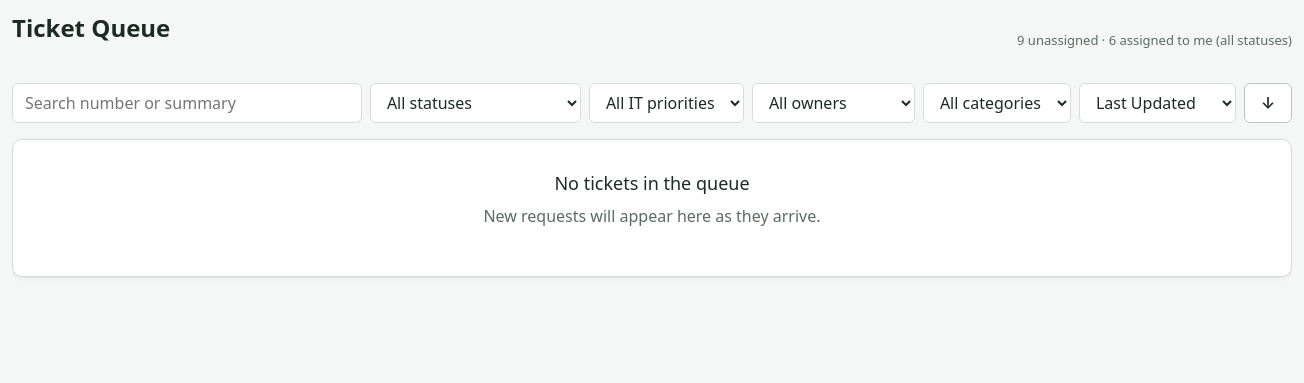
it: IT Staff Ticket Queue › UI-19: empty and no-results are distinct › shows no-results with a working Clear filters when a filter matches nothing
The width and height of the screenshot is (1304, 383).
Expected: the heading "No tickets in the queue" is shown, x1=554 y1=171 x2=750 y2=195
Step 1. Select "Reopened" in the dropdown named "Filter by status" → (475, 103), box x1=370 y1=83 x2=581 y2=123
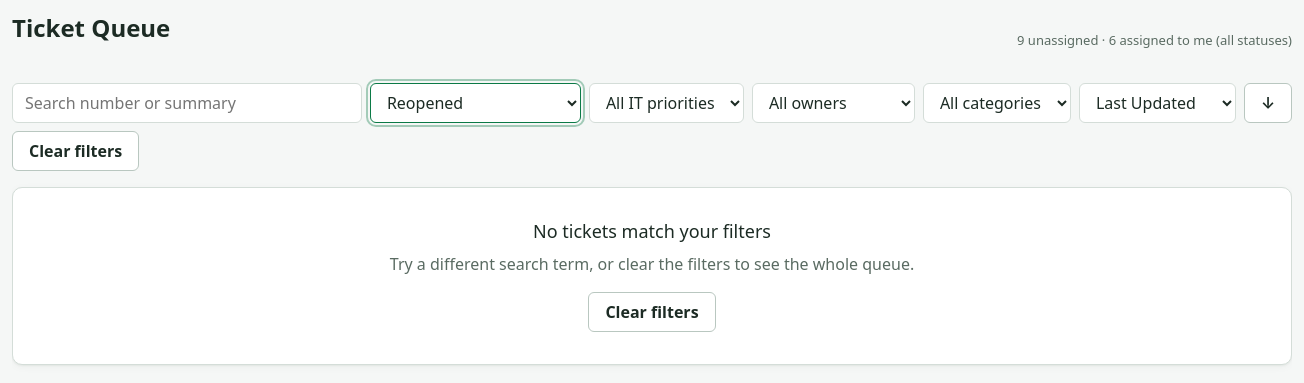
Result: the heading "No tickets match your filters" is shown at x1=533 y1=219 x2=771 y2=243
Result: the 1st button "Clear filters" is shown at x1=12 y1=131 x2=139 y2=171
Step 2. Click the button "Clear filters" below "No tickets match your filters" → (652, 312), box x1=588 y1=292 x2=716 y2=332
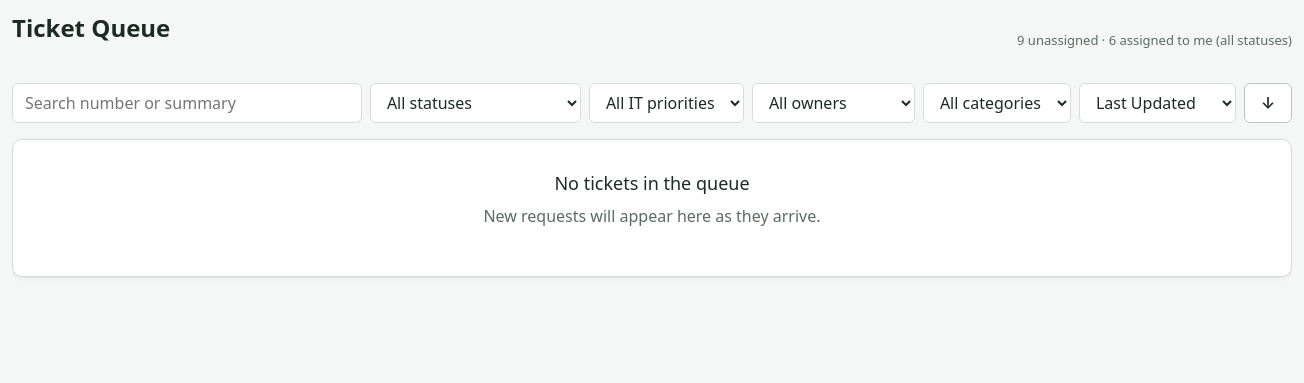
Result: the heading "No tickets in the queue" is shown at x1=554 y1=171 x2=750 y2=195
